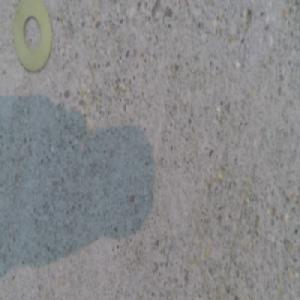Washer: (14, 0, 52, 70)
